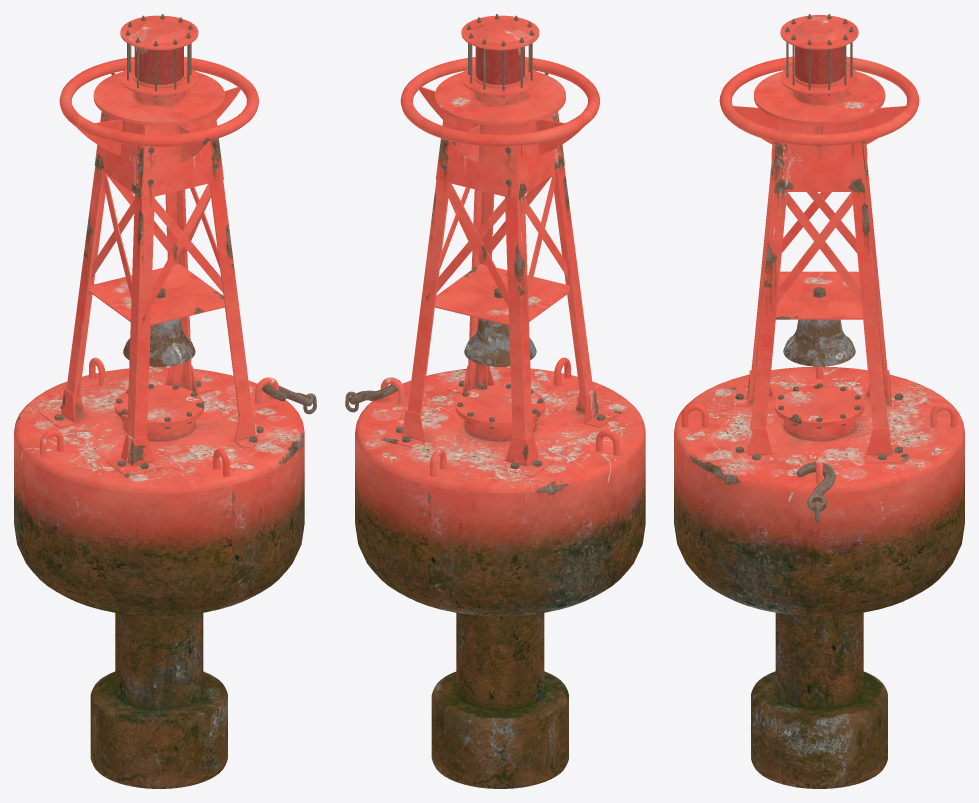
Rendered from ocean_buoy.glb.
The picture shows the model from 3 angles, left to right: view 1: azimuth 30°, elevation 25°; view 2: azimuth 150°, elevation 25°; view 3: azimuth 270°, elevation 25°; orthographic projection.
Parts seen in each view (by area): view 1: ocean_buoy; view 2: ocean_buoy; view 3: ocean_buoy.
Boxes of the visible parts, <box> form: ocean_buoy: <box>14,14,316,788</box>; ocean_buoy: <box>345,14,645,788</box>; ocean_buoy: <box>674,14,964,788</box>.
Bounding box in the file's own units: 1.07 × 2.66 × 0.9522.
Materials: 1 (1 with a texture image).
